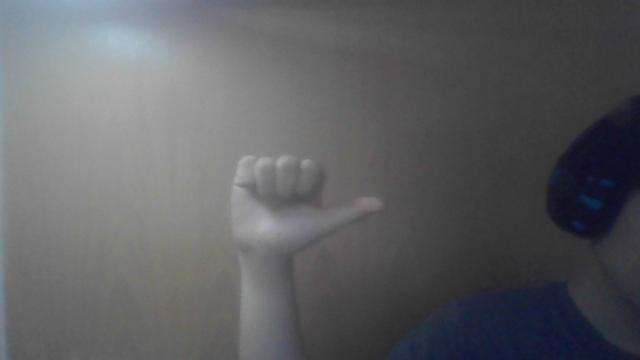left: (228, 145, 396, 261)
